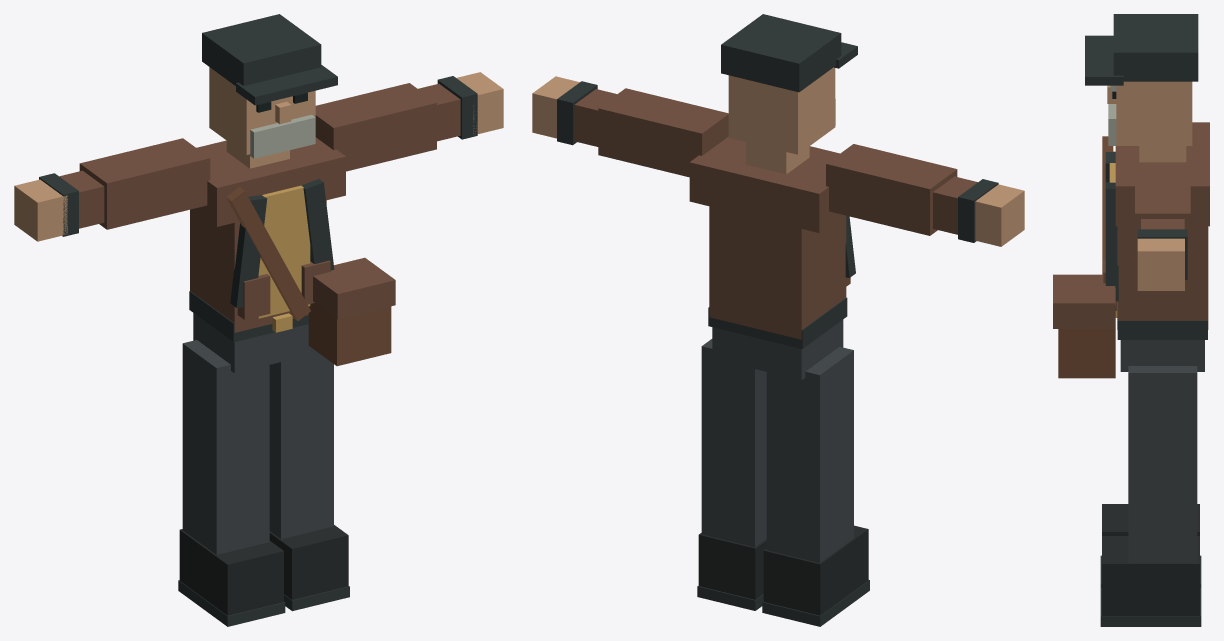
Rendered from FSA_NPC_001_Rod.glb.
3 views of the same model, side by side, from view 1: azimuth 30°, elevation 25°; view 2: azimuth 150°, elevation 25°; view 3: azimuth 270°, elevation 25° (orthographic).
Parts seen in each view (by area): view 1: TrousersR, TrousersL, SleeveR, SleeveL, Shoulders, BootR, Cap, Torso, BootL, Satchel, BagFlap, Shirt (+19 smaller); view 2: TrousersR, Torso, TrousersL, Shoulders, SleeveL, SleeveR, Face, Cap, BootR, Hips, BootL, HandR (+9 smaller); view 3: TrousersL, BootL, Cap, Torso, Face, Shoulders, SleeveL, BagFlap, Satchel, HandL, Hips, Belt (+9 smaller).
Part boxes in pixels (x1,y1,x2,y2): TrousersR: (182, 340, 269, 554); TrousersL: (269, 353, 333, 539); SleeveR: (79, 138, 210, 229); SleeveL: (315, 83, 436, 171); Shoulders: (193, 137, 345, 226); BootR: (179, 529, 283, 615); Cap: (202, 14, 321, 85); Torso: (190, 200, 326, 332); BootL: (269, 525, 348, 599); Satchel: (308, 303, 391, 366); BagFlap: (313, 257, 395, 319); Shirt: (256, 185, 310, 318); TrousersR: (766, 346, 853, 562); Torso: (709, 206, 846, 339); TrousersL: (701, 339, 766, 547); Shoulders: (689, 137, 843, 232); SleeveL: (598, 88, 728, 177); SleeveR: (826, 144, 957, 235); Face: (728, 67, 835, 154); Cap: (721, 14, 841, 92); BootR: (763, 525, 868, 615); Hips: (712, 319, 843, 380); BootL: (698, 533, 766, 599); HandR: (975, 184, 1024, 246); TrousersL: (1128, 366, 1197, 563); BootL: (1102, 536, 1199, 615); Cap: (1113, 14, 1198, 81); Torso: (1117, 226, 1208, 329); Face: (1116, 81, 1192, 145); Shoulders: (1115, 122, 1209, 226); SleeveL: (1135, 162, 1190, 260); BagFlap: (1053, 274, 1115, 328); Satchel: (1058, 288, 1115, 378); HandL: (1137, 238, 1184, 290); Hips: (1120, 340, 1204, 371); Belt: (1117, 320, 1207, 339).
Size of the model in its own units: 1.62 by 1.84 by 0.4655.
